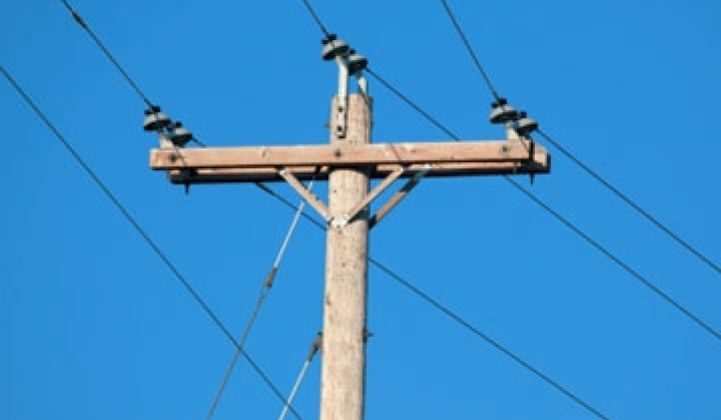utility_pole: (135, 25, 556, 248)
